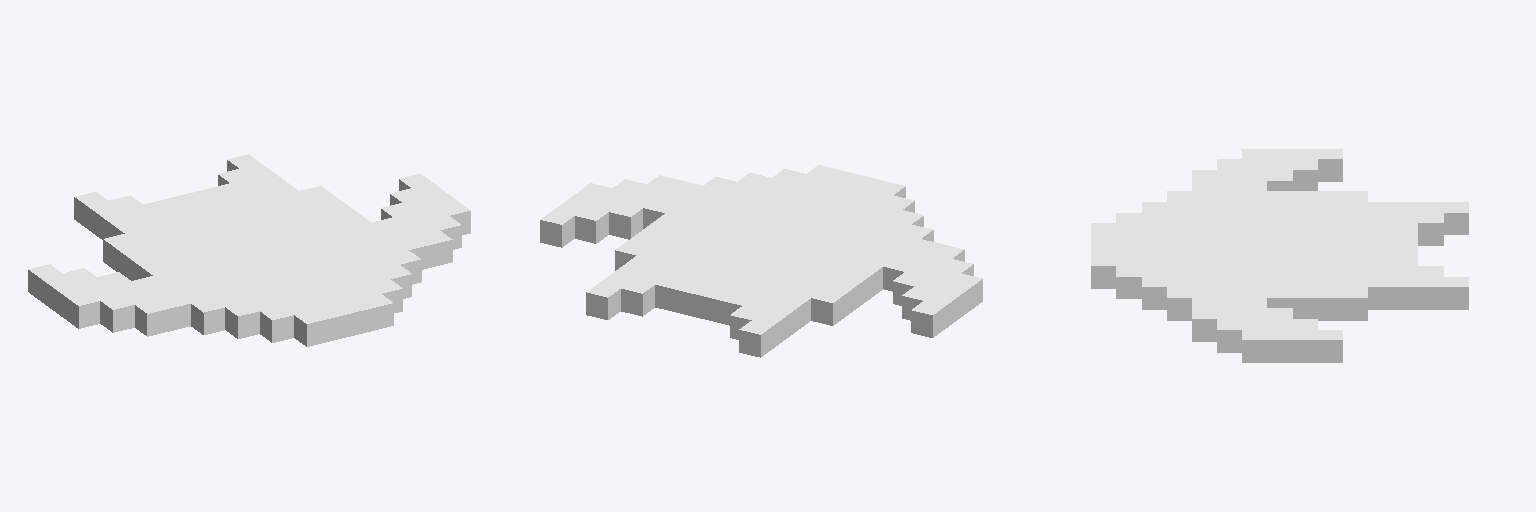
File: baby_vampire.obj
The picture shows the model from 3 angles: view 1: azimuth 30°, elevation 25°; view 2: azimuth 150°, elevation 25°; view 3: azimuth 270°, elevation 25°; orthographic projection.
Size of the model in its own units: 18 by 1 by 15.